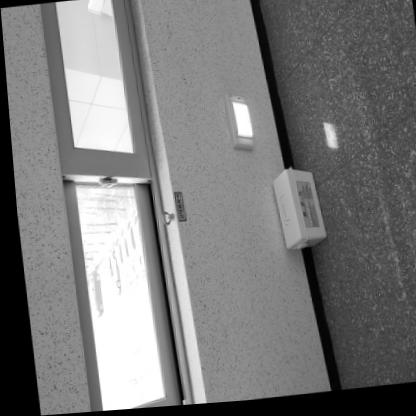DDL: (267, 167, 324, 254)
